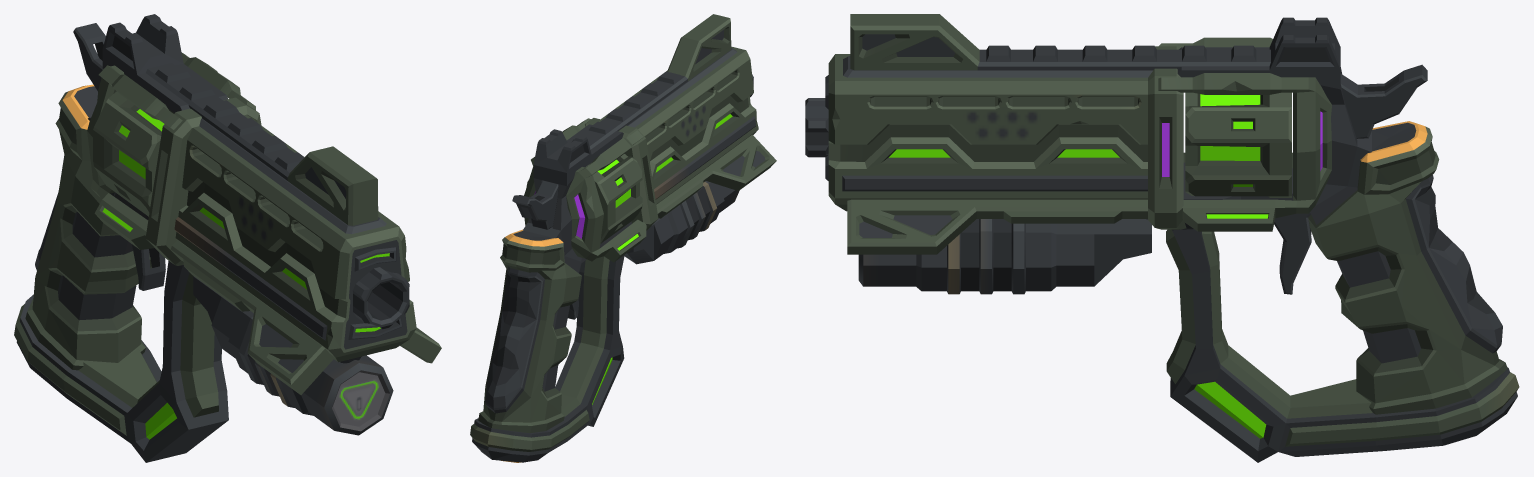
Rendered from SM_Wep_HandCannon_01.fbx.
3 renders of one model, left to right at view 1: azimuth 30°, elevation 25°; view 2: azimuth 150°, elevation 25°; view 3: azimuth 270°, elevation 25°, orthographic. The views are drawn at different scales.
Parts seen in each view (by area): view 1: SM_Wep_HandCannon_01; view 2: SM_Wep_HandCannon_01; view 3: SM_Wep_HandCannon_01.
Part boxes in pixels (x1,y1,x2,y2): SM_Wep_HandCannon_01: [14, 14, 441, 462]; SM_Wep_HandCannon_01: [470, 14, 776, 462]; SM_Wep_HandCannon_01: [805, 14, 1519, 462].
Bounding box in the file's own units: 54.68 × 146 × 219.
